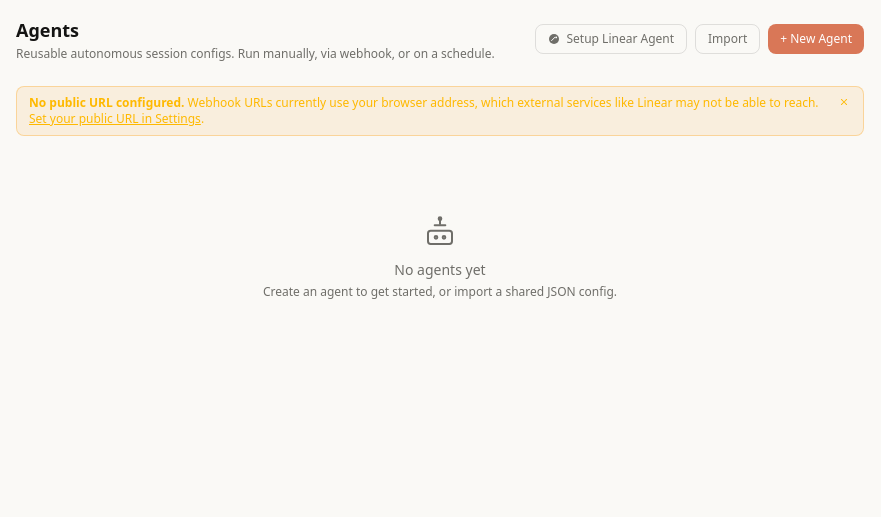
Test case: AgentsPage › clicking '+ New Agent' shows the editor in create mode
What coordinates should you click on to do the following:
click the button "+ New Agent"
I would click on:
 (816, 39)
Its box is [768,24,864,54].
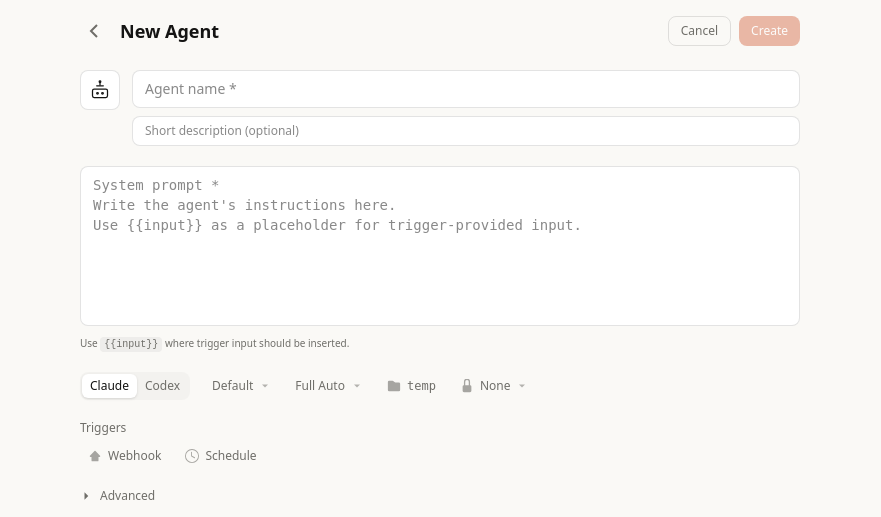
Expected: the button "Create" is shown, [739,16,800,46]
Expected: the heading "New Agent" is shown, [120,17,219,45]
